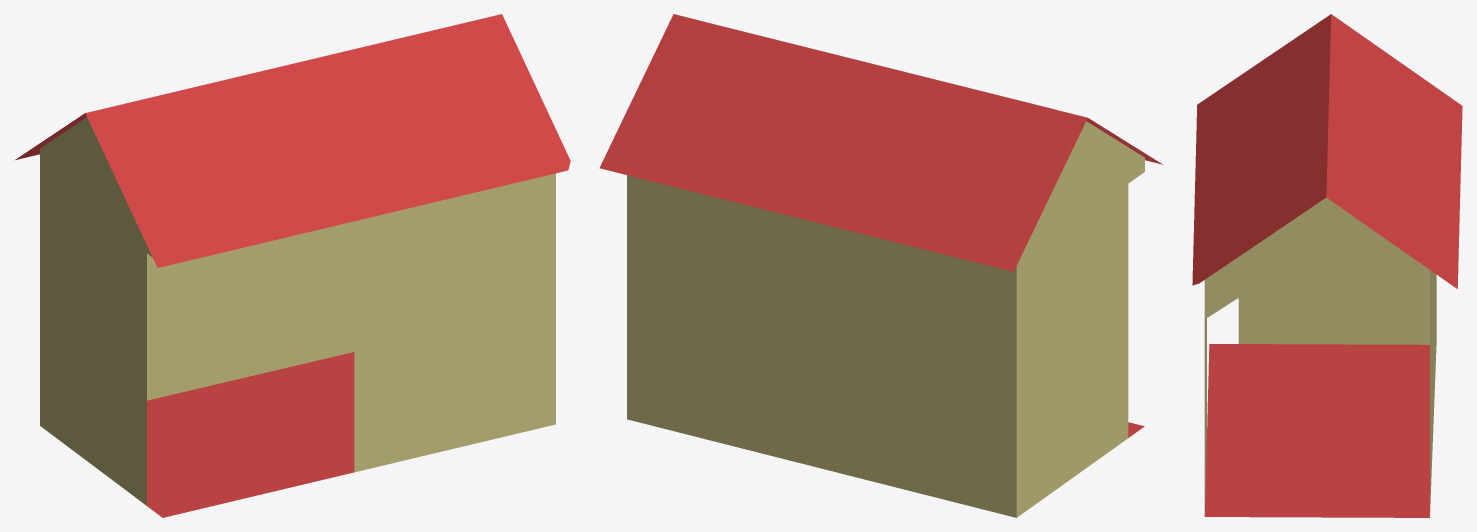
3 views of the same model, side by side, from view 1: azimuth 30°, elevation 25°; view 2: azimuth 150°, elevation 25°; view 3: azimuth 270°, elevation 25° (orthographic). The views are drawn at different scales.
Size of the model in its own units: 17.75 by 10.97 by 14.58.
